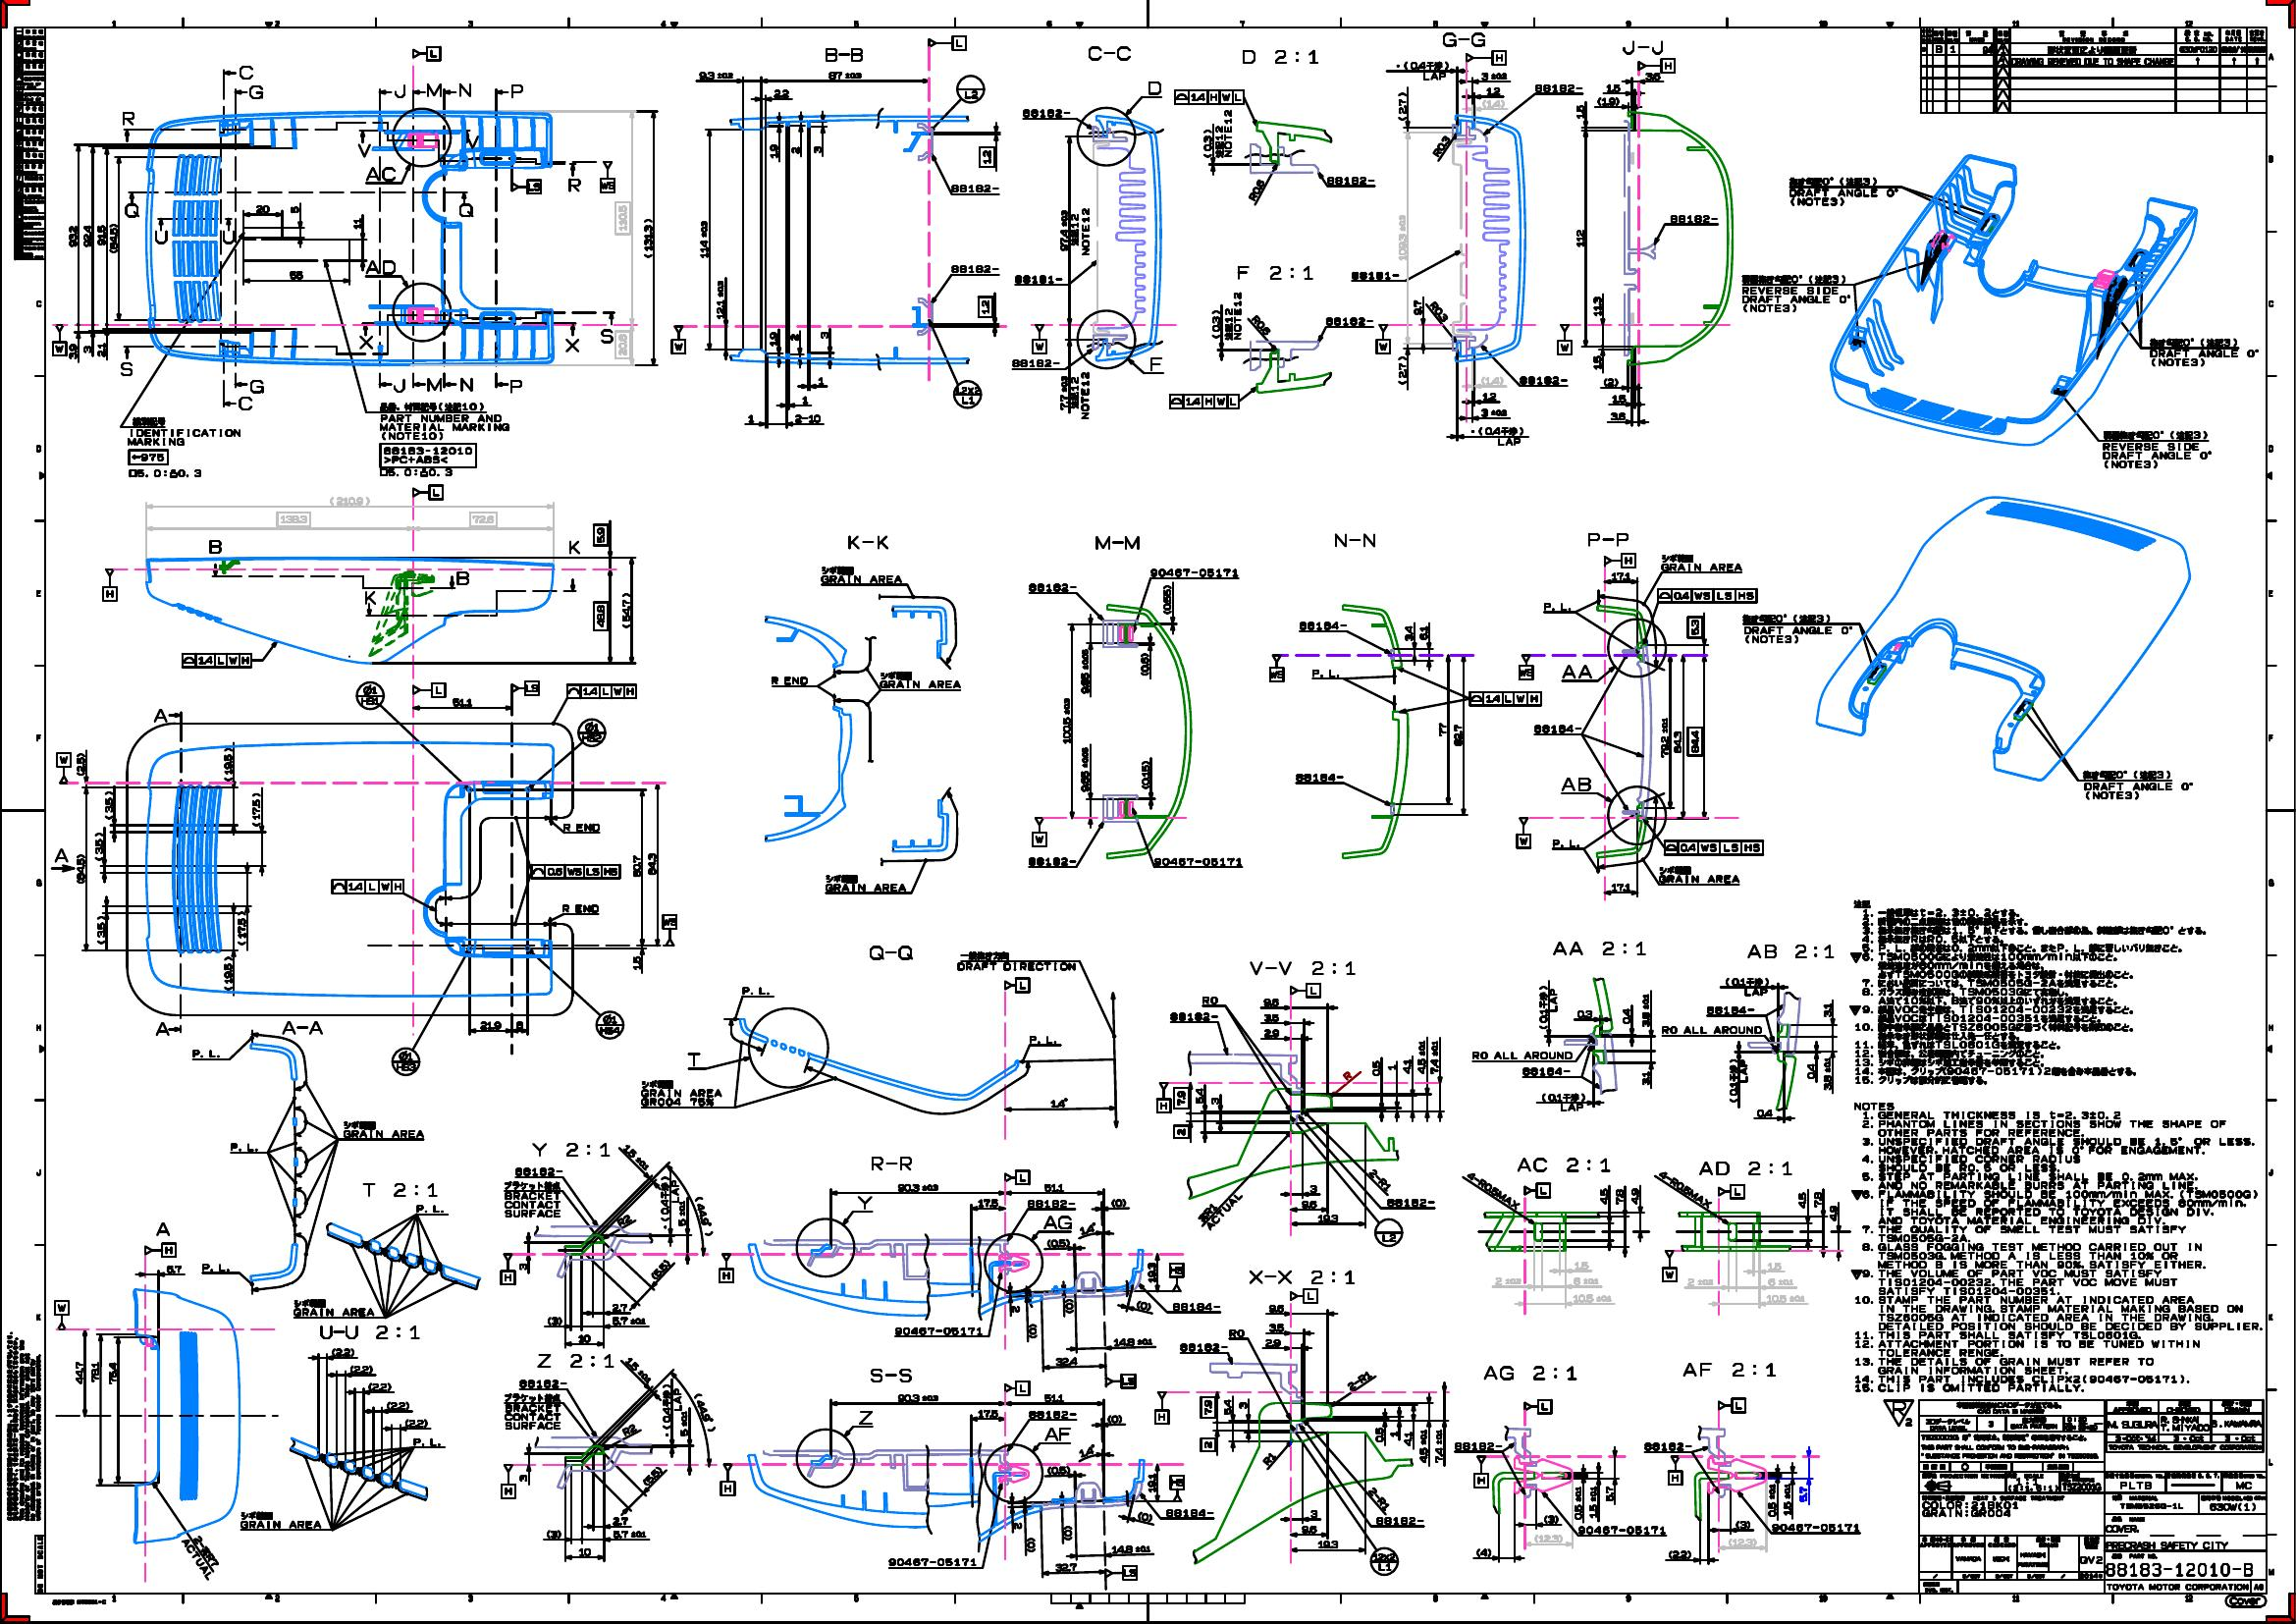anntotation_text: (1848, 1097, 2264, 1394), (1846, 895, 2210, 1086), (378, 401, 511, 478), (2, 1329, 44, 1522), (126, 415, 244, 480), (2101, 429, 2215, 473), (1739, 272, 1852, 315), (2078, 768, 2199, 801), (1788, 174, 1899, 207), (1739, 612, 1852, 643), (2148, 337, 2261, 369), (956, 951, 1079, 972), (639, 1077, 722, 1107), (502, 1179, 560, 1220), (504, 1392, 562, 1431), (1245, 1267, 1356, 1287), (1247, 958, 1356, 977), (1514, 1155, 1613, 1176), (1549, 939, 1651, 958), (1695, 1158, 1794, 1178), (877, 670, 963, 691), (1678, 1360, 1778, 1378), (1481, 1364, 1579, 1381), (316, 1325, 422, 1341), (817, 564, 903, 584), (1743, 942, 1836, 960), (824, 872, 908, 891), (1657, 865, 1739, 884), (1658, 587, 1758, 603), (1235, 262, 1314, 281), (1658, 554, 1743, 571), (339, 1120, 423, 1137), (239, 1510, 323, 1527), (358, 1181, 441, 1199), (529, 1141, 610, 1158), (1664, 840, 1764, 854), (293, 1299, 372, 1316), (536, 1352, 615, 1369), (1240, 47, 1319, 65), (885, 1555, 977, 1570), (566, 682, 638, 700), (531, 865, 620, 879), (1467, 425, 1527, 446), (1470, 1048, 1572, 1060), (1660, 1023, 1762, 1035), (661, 1383, 683, 1438), (1393, 60, 1449, 81), (330, 879, 404, 895), (1147, 566, 1240, 578), (1168, 394, 1240, 410), (1539, 1091, 1588, 1114), (1727, 1056, 1750, 1106), (1576, 1524, 1667, 1536), (181, 652, 251, 668), (1173, 88, 1244, 104), (661, 1174, 680, 1230), (1070, 206, 1091, 257), (1881, 1396, 1913, 1429), (1368, 1545, 1402, 1577), (1191, 1199, 1245, 1218), (1467, 691, 1541, 705), (1212, 107, 1233, 156), (1070, 371, 1091, 420), (596, 1009, 627, 1040), (1537, 984, 1558, 1032), (1372, 1216, 1404, 1248), (950, 380, 982, 411), (956, 72, 987, 104), (353, 680, 386, 710), (1223, 290, 1242, 341), (892, 1325, 984, 1336), (576, 717, 608, 747), (1154, 856, 1242, 866), (1773, 1522, 1860, 1533), (179, 1545, 227, 1564), (1091, 534, 1142, 552), (841, 533, 892, 550), (1725, 977, 1769, 997), (870, 1153, 913, 1172), (390, 1048, 420, 1076), (1332, 531, 1379, 548), (279, 1018, 325, 1035), (870, 1366, 913, 1383), (1087, 44, 1131, 62), (866, 944, 913, 960), (1024, 852, 1077, 866), (822, 46, 864, 63), (1585, 531, 1630, 547), (1651, 1185, 1720, 1195), (1440, 32, 1486, 47), (1460, 1185, 1527, 1195), (1621, 39, 1665, 54), (1465, 49, 1507, 65), (1021, 107, 1073, 120), (949, 264, 1001, 276), (513, 1165, 564, 1178), (1163, 1506, 1214, 1519), (1558, 775, 1593, 793), (499, 1464, 516, 1499), (364, 165, 395, 185), (1660, 1250, 1679, 1281), (717, 1253, 736, 1285), (1555, 323, 1574, 355), (1518, 373, 1567, 385), (1326, 174, 1375, 186), (1560, 663, 1593, 680), (718, 1462, 736, 1496), (1635, 58, 1676, 72), (928, 35, 968, 49), (364, 257, 395, 274), (1026, 582, 1079, 592), (516, 1378, 569, 1388), (1042, 1425, 1073, 1443), (1706, 1004, 1758, 1014), (1384, 1197, 1437, 1207), (1451, 1441, 1504, 1452), (1042, 1214, 1073, 1232), (1170, 1301, 1223, 1311), (1177, 1341, 1230, 1352), (949, 183, 1001, 193), (511, 178, 543, 195), (1003, 975, 1031, 995), (768, 673, 812, 685), (1532, 722, 1583, 733), (1295, 772, 1346, 782), (1026, 1410, 1077, 1420), (1521, 1065, 1572, 1076), (1374, 1515, 1425, 1526), (1323, 315, 1374, 325), (1014, 272, 1065, 283), (1105, 1564, 1138, 1580), (1154, 1392, 1170, 1425), (1166, 1262, 1184, 1292), (1298, 620, 1347, 631), (560, 821, 603, 833), (1643, 1441, 1692, 1452), (1669, 213, 1718, 223), (1534, 83, 1583, 93), (1010, 357, 1059, 367), (35, 1534, 44, 1592), (53, 325, 69, 357), (1514, 817, 1530, 849), (411, 483, 443, 499), (499, 1253, 515, 1285), (1289, 982, 1321, 998), (1170, 1011, 1217, 1021), (1156, 1083, 1172, 1114), (1474, 1455, 1490, 1487), (1105, 1373, 1137, 1388), (1375, 323, 1391, 355), (599, 162, 615, 193), (560, 902, 599, 914), (1716, 1183, 1746, 1199), (1031, 325, 1047, 355), (671, 323, 687, 353), (102, 568, 116, 601), (413, 684, 446, 698), (662, 914, 676, 947), (56, 750, 70, 784), (1523, 1181, 1549, 1199), (1349, 271, 1400, 279), (413, 46, 441, 62), (1518, 652, 1534, 680), (1268, 654, 1284, 682), (1031, 816, 1045, 847), (1718, 1397, 1746, 1413), (1667, 1455, 1683, 1483), (1024, 1199, 1073, 1207), (1604, 554, 1634, 568), (511, 682, 541, 696), (144, 1243, 174, 1257), (1523, 1399, 1553, 1413), (1005, 1169, 1031, 1185), (413, 1200, 446, 1213), (49, 1598, 107, 1605), (54, 1301, 69, 1329), (1289, 1288, 1318, 1302), (190, 1048, 221, 1060), (1005, 1380, 1029, 1396), (856, 1408, 875, 1427), (683, 1049, 703, 1069), (457, 374, 474, 395), (1542, 599, 1570, 612), (237, 62, 255, 81), (246, 83, 264, 102), (153, 228, 170, 248), (220, 228, 237, 248), (123, 202, 141, 221), (455, 81, 473, 100), (508, 81, 525, 100), (116, 360, 134, 380), (235, 394, 253, 413), (564, 334, 581, 353), (411, 1436, 443, 1446), (1026, 1033, 1058, 1044), (1170, 1475, 1182, 1501), (740, 984, 769, 995), (206, 538, 223, 555), (856, 1193, 873, 1211), (119, 109, 135, 128), (392, 81, 408, 100), (425, 79, 441, 98), (567, 176, 583, 195), (458, 202, 474, 221), (249, 378, 265, 397), (392, 378, 408, 397), (357, 334, 372, 353), (425, 376, 441, 395), (599, 327, 615, 346), (455, 568, 471, 587), (357, 141, 372, 160), (1551, 838, 1579, 849), (228, 1141, 256, 1151), (506, 380, 522, 397), (53, 845, 69, 863), (153, 707, 169, 724), (155, 1220, 172, 1236), (1147, 355, 1163, 373), (1147, 79, 1163, 97), (1310, 668, 1340, 677), (362, 589, 378, 605), (202, 1262, 230, 1271), (466, 132, 480, 149), (566, 540, 580, 555), (155, 1021, 170, 1035)
dimension_text: (697, 1394, 711, 1434), (278, 511, 311, 527), (641, 216, 653, 258), (615, 202, 631, 234), (1397, 213, 1407, 260), (1765, 1292, 1806, 1304), (697, 1192, 708, 1237), (1061, 698, 1072, 743), (1058, 207, 1068, 251), (896, 1392, 940, 1403), (221, 954, 234, 991), (249, 791, 262, 828), (1418, 1427, 1430, 1464), (615, 330, 631, 359), (715, 279, 726, 322), (329, 496, 371, 506), (469, 511, 497, 527), (1110, 1543, 1151, 1554), (1688, 726, 1702, 756), (1080, 745, 1089, 793), (1080, 647, 1089, 694), (107, 221, 119, 255), (697, 69, 736, 79), (697, 220, 708, 258), (594, 601, 608, 629), (620, 1366, 657, 1376), (74, 852, 86, 884), (1059, 374, 1070, 411), (896, 1183, 940, 1192), (611, 1316, 646, 1327), (1433, 1427, 1444, 1462), (1572, 1294, 1613, 1302), (1658, 717, 1667, 758), (237, 909, 246, 947), (978, 146, 996, 165), (826, 70, 864, 79), (622, 591, 631, 629), (1173, 1088, 1189, 1109), (1210, 308, 1221, 339), (1202, 128, 1212, 160), (1200, 1396, 1216, 1417), (1430, 1039, 1439, 1076), (1416, 1039, 1425, 1076), (1114, 1338, 1151, 1346), (978, 295, 993, 318), (104, 789, 114, 819), (93, 831, 104, 861), (95, 914, 105, 944), (1363, 1492, 1393, 1503), (1397, 355, 1407, 385), (1397, 91, 1407, 121), (1783, 1483, 1792, 1519), (1823, 1056, 1832, 1091), (1574, 1485, 1583, 1520), (223, 747, 232, 782), (367, 1380, 392, 1392), (480, 1019, 504, 1032), (1479, 374, 1504, 387), (1365, 1174, 1393, 1185), (1686, 1276, 1715, 1287), (792, 413, 820, 424), (1346, 1374, 1374, 1385), (1688, 617, 1702, 638), (1479, 406, 1507, 417), (1641, 993, 1650, 1026), (1767, 1483, 1776, 1517), (620, 1151, 653, 1160), (613, 1529, 646, 1538), (594, 524, 606, 547), (1597, 95, 1620, 107), (1588, 1487, 1597, 1519), (1045, 1464, 1072, 1475), (1140, 759, 1149, 791), (1163, 584, 1172, 615), (1481, 70, 1507, 81), (1727, 1538, 1757, 1547), (1534, 1534, 1563, 1543), (639, 1471, 664, 1482), (404, 1417, 429, 1427), (386, 1399, 411, 1410), (348, 1364, 372, 1374), (330, 1346, 355, 1357), (74, 1360, 84, 1385), (631, 852, 641, 877), (67, 223, 77, 248), (81, 223, 91, 248), (1249, 320, 1274, 330), (1054, 1355, 1079, 1366), (1426, 306, 1451, 316), (1481, 98, 1505, 109), (1200, 1436, 1216, 1452), (1493, 1276, 1521, 1285), (1765, 1278, 1794, 1287), (1426, 142, 1455, 151), (1316, 1213, 1339, 1223), (90, 1360, 100, 1383), (646, 852, 657, 875), (76, 752, 86, 775), (95, 223, 105, 246), (1316, 1538, 1339, 1548), (977, 1408, 1000, 1418), (1147, 1260, 1158, 1283), (1672, 729, 1683, 752), (1572, 1276, 1599, 1285), (680, 1410, 689, 1436), (977, 1197, 998, 1207), (1042, 1392, 1063, 1403), (1609, 882, 1630, 893), (1592, 295, 1602, 316), (1263, 1011, 1281, 1023), (1667, 1550, 1692, 1559), (1476, 1545, 1493, 1557), (1049, 1095, 1066, 1107), (648, 1265, 673, 1274), (1245, 186, 1270, 195), (1267, 1320, 1284, 1332), (1140, 652, 1149, 677), (1453, 722, 1462, 747), (1063, 1522, 1073, 1541), (1042, 1183, 1065, 1192), (107, 1360, 116, 1383), (1147, 1471, 1156, 1494), (1054, 1562, 1077, 1571), (1047, 1237, 1070, 1246), (450, 698, 473, 707), (1400, 1058, 1412, 1074), (1173, 1125, 1189, 1137), (546, 1315, 562, 1327), (67, 343, 79, 359), (1602, 374, 1618, 387), (1576, 1007, 1593, 1018), (1300, 1199, 1318, 1209), (1195, 1086, 1205, 1104), (1797, 1485, 1808, 1503), (678, 1200, 685, 1227), (773, 88, 791, 98), (1604, 1483, 1614, 1501), (1374, 1425, 1384, 1443), (1267, 1302, 1284, 1313), (1228, 1327, 1245, 1338), (1026, 1536, 1036, 1554), (1418, 624, 1428, 642), (1611, 571, 1632, 580), (1412, 299, 1423, 316), (1611, 392, 1625, 404), (1372, 1058, 1381, 1077), (1574, 228, 1583, 248), (1757, 1107, 1773, 1118), (1765, 1260, 1781, 1271), (1734, 1519, 1750, 1529), (288, 271, 304, 281), (1822, 1002, 1832, 1018), (1221, 1399, 1231, 1415), (1079, 1445, 1094, 1455), (1107, 1413, 1123, 1424), (1606, 83, 1621, 93), (1609, 411, 1625, 422), (1481, 390, 1497, 401), (1621, 1007, 1630, 1025), (1641, 1069, 1650, 1086), (1263, 1028, 1281, 1037), (1263, 998, 1281, 1007), (1200, 995, 1217, 1004), (1630, 1186, 1639, 1204), (1614, 1186, 1623, 1204), (1599, 1186, 1607, 1204), (1829, 1204, 1838, 1222), (620, 1425, 638, 1434), (545, 1529, 562, 1538), (97, 341, 105, 359), (253, 204, 271, 213), (769, 330, 778, 348), (1806, 1062, 1815, 1079), (1404, 1429, 1412, 1446), (1108, 1199, 1126, 1207), (1404, 624, 1412, 642), (1437, 721, 1446, 738), (1644, 72, 1662, 81), (1592, 353, 1600, 371), (1137, 1301, 1151, 1311), (1574, 1260, 1590, 1269), (1813, 1192, 1822, 1207), (1797, 1192, 1806, 1207), (617, 1216, 632, 1225), (611, 1302, 627, 1311), (611, 1517, 627, 1526), (165, 1265, 181, 1274), (769, 142, 778, 158), (1542, 1513, 1558, 1522), (1265, 1338, 1281, 1346), (1261, 1454, 1277, 1462), (1137, 1512, 1152, 1520), (1080, 1225, 1096, 1234), (1576, 104, 1585, 120), (1209, 1095, 1221, 1106), (578, 1547, 590, 1557), (351, 218, 362, 230), (578, 1334, 592, 1343), (1300, 1526, 1318, 1533), (1065, 1299, 1073, 1313), (1029, 1322, 1036, 1339), (1486, 86, 1500, 95), (288, 204, 299, 214), (515, 1019, 523, 1032), (632, 956, 639, 970), (1386, 1062, 1397, 1070), (1342, 1070, 1351, 1081), (1309, 1183, 1318, 1193), (518, 1473, 529, 1482), (791, 144, 799, 155), (812, 146, 822, 155), (815, 376, 824, 387), (1238, 1401, 1247, 1411), (1012, 1520, 1022, 1529), (1010, 1304, 1021, 1313), (83, 344, 91, 353), (791, 332, 799, 341), (820, 330, 829, 339), (799, 395, 808, 404), (1390, 1429, 1398, 1438), (1309, 1508, 1318, 1517), (516, 1262, 527, 1269), (747, 413, 754, 424)
object: (123, 719, 578, 1018), (1827, 149, 2201, 453), (1815, 490, 2192, 782), (144, 105, 559, 366), (726, 112, 971, 367), (752, 592, 959, 865), (141, 555, 562, 668), (1191, 1360, 1418, 1568), (743, 1446, 1154, 1547), (747, 1234, 1149, 1325), (1184, 1049, 1398, 1199), (130, 1285, 248, 1550), (1621, 107, 1737, 367), (1100, 601, 1198, 863), (1247, 116, 1339, 395), (734, 1014, 1024, 1100), (1449, 111, 1530, 364), (1087, 111, 1163, 360), (1339, 601, 1409, 866), (1597, 592, 1658, 868), (248, 1028, 311, 1294), (325, 1216, 483, 1295), (288, 1434, 429, 1503), (1688, 1424, 1769, 1520), (1490, 1427, 1574, 1515), (532, 1434, 655, 1494), (1746, 990, 1806, 1111), (532, 1222, 655, 1280), (1565, 974, 1623, 1097), (1483, 1209, 1607, 1251), (1676, 1211, 1799, 1253)
title_block: (1918, 1399, 2268, 1594), (1918, 26, 2268, 114), (12, 26, 46, 260)
